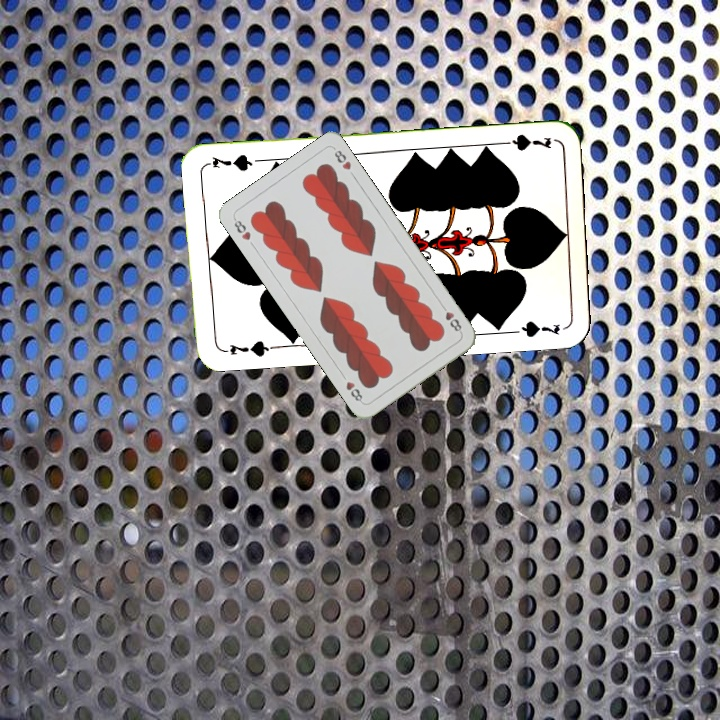G7: (495, 130, 554, 154), (218, 336, 277, 359)
H8: (437, 300, 464, 336), (230, 214, 253, 243)
